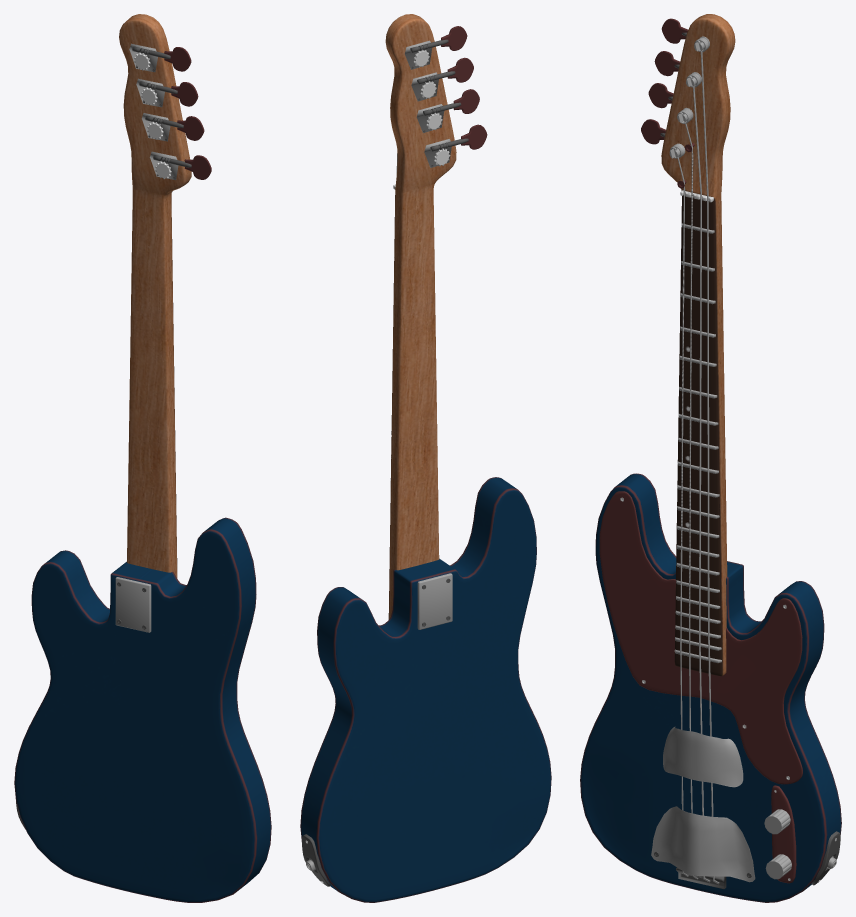
File: bass-5.glb
3 views of the same model, side by side, from view 1: azimuth 90°, elevation 25°; view 2: azimuth 150°, elevation 25°; view 3: azimuth 270°, elevation 25° (orthographic).
Parts seen in each view (by area): view 1: Bass guitar; view 2: Bass guitar; view 3: Bass guitar.
Boxes of the visible parts, x1,y1,x2,y2 form: Bass guitar: (14,14,271,902); Bass guitar: (300,14,551,902); Bass guitar: (580,14,841,902).
Bounding box in the file's own units: 0.75 × 4.42 × 1.2.
Materials: 1 (1 with a texture image).
